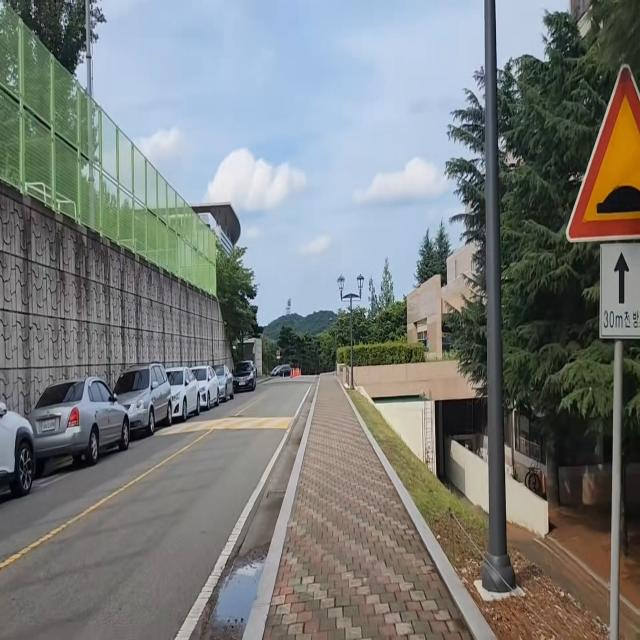obstacle: (566, 65, 640, 640), (0, 357, 259, 501), (478, 0, 522, 593)
road: (0, 379, 318, 640)
sidewalk: (246, 376, 501, 639)
